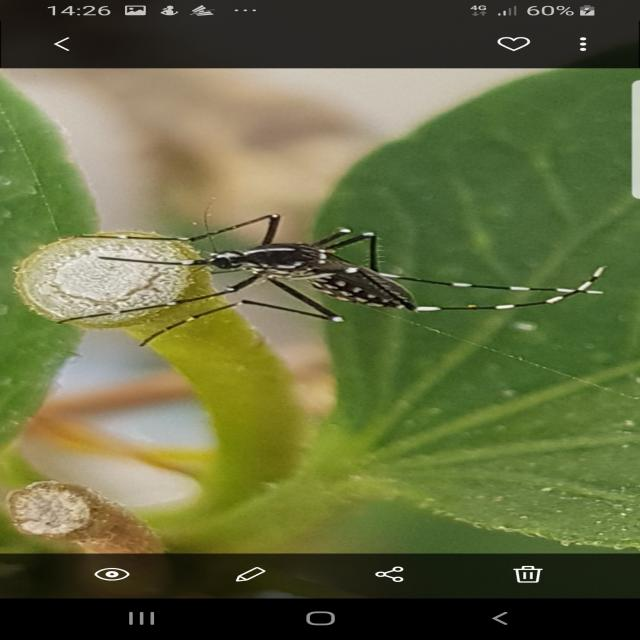albopictus: (34, 187, 604, 375)
